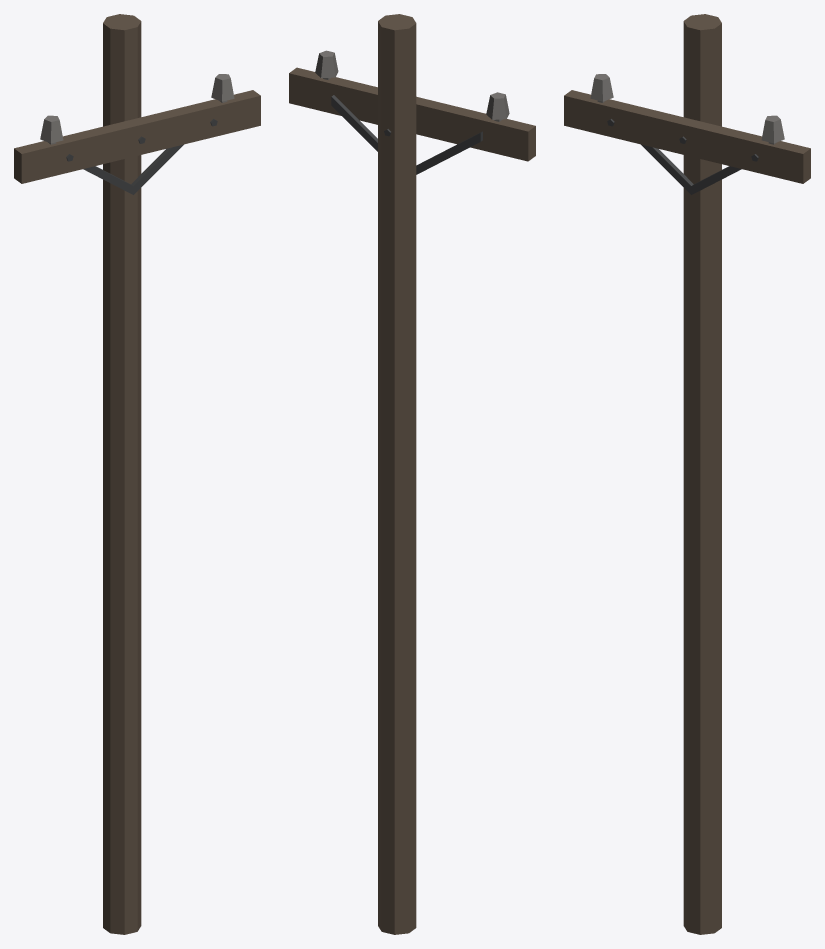
Rendered from SM_Props_Street_UtilityPole_Single.fbx.
3 views of the same model, side by side, from view 1: azimuth 30°, elevation 25°; view 2: azimuth 150°, elevation 25°; view 3: azimuth 330°, elevation 25° (orthographic).
Visible parts, largest first — view 1: SM_Props_Street_UtilityPole_Single; view 2: SM_Props_Street_UtilityPole_Single; view 3: SM_Props_Street_UtilityPole_Single.
Boxes of the visible parts, x1,y1,x2,y2 form: SM_Props_Street_UtilityPole_Single: (14, 14, 260, 934); SM_Props_Street_UtilityPole_Single: (289, 14, 535, 934); SM_Props_Street_UtilityPole_Single: (564, 14, 810, 934).
Size of the model in its own units: 212 by 768 by 47.05.
